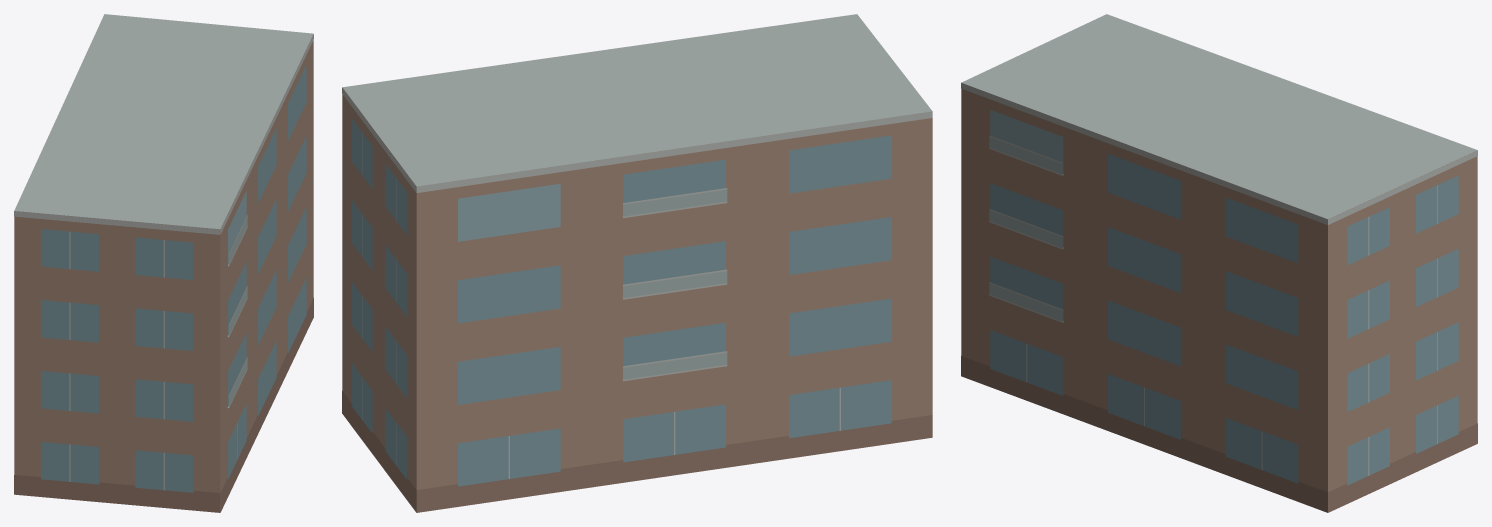
Rendered from survey-upis-32567994.glb.
The picture shows the model from 3 angles, left to right: view 1: azimuth 30°, elevation 25°; view 2: azimuth 150°, elevation 25°; view 3: azimuth 270°, elevation 25°; orthographic projection. The views are drawn at different scales.
Parts seen in each view (by area): view 1: survey-upis-32567994.tmp; view 2: survey-upis-32567994.tmp; view 3: survey-upis-32567994.tmp.
Part boxes in pixels (x1,y1,x2,y2): survey-upis-32567994.tmp: (14,14,313,512); survey-upis-32567994.tmp: (342,14,932,512); survey-upis-32567994.tmp: (961,14,1477,512).
Size of the model in its own units: 18.3 by 12.2 by 19.46.
